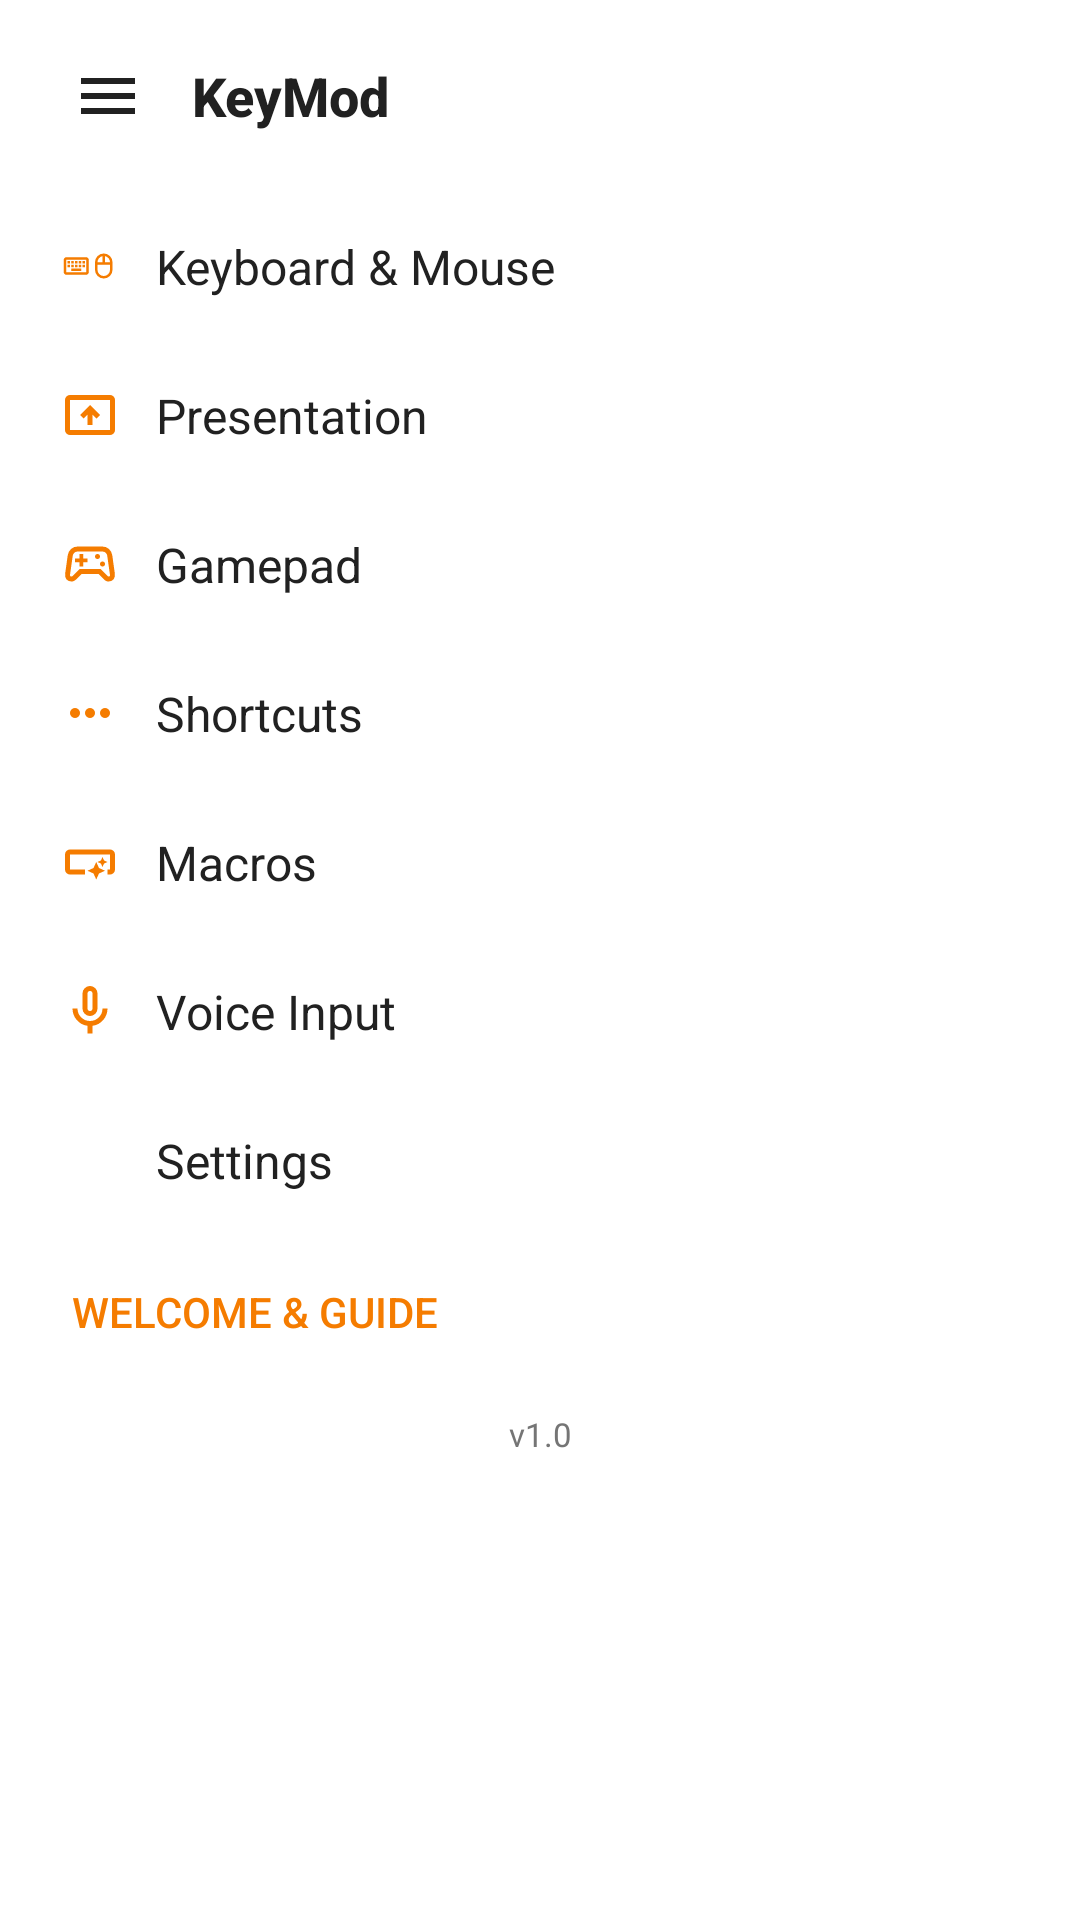

Icon bounding boxes for this 1080w x 1920h phone screenshot, format (x1, y1, x2, y2):
three dots: (70, 708, 110, 718)
